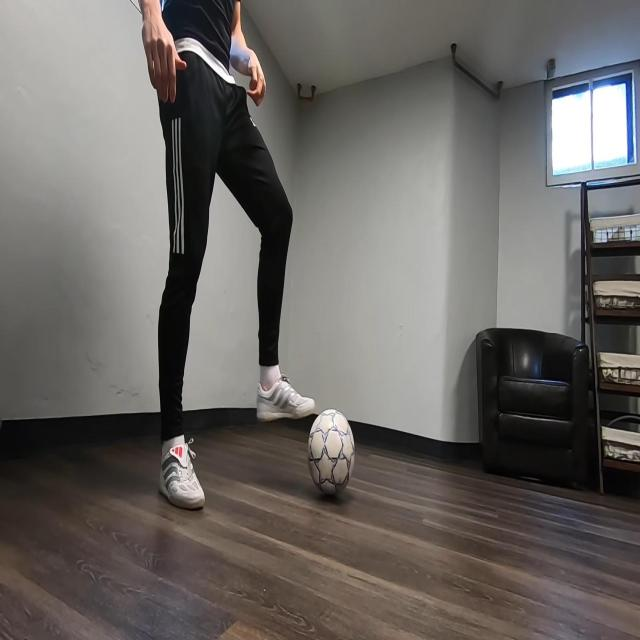Soccer Ball: (308, 410, 355, 500)
